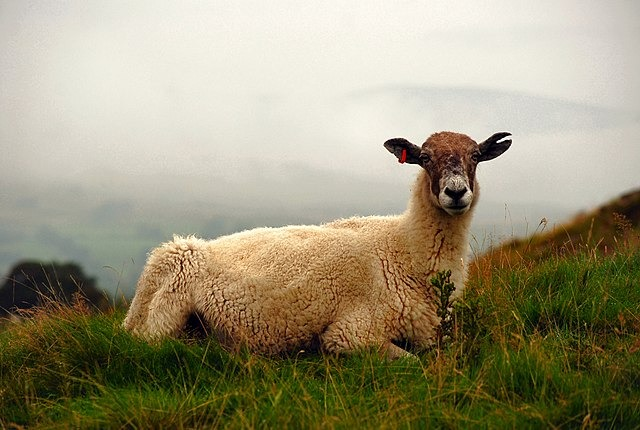resting: (122, 130, 516, 359)
